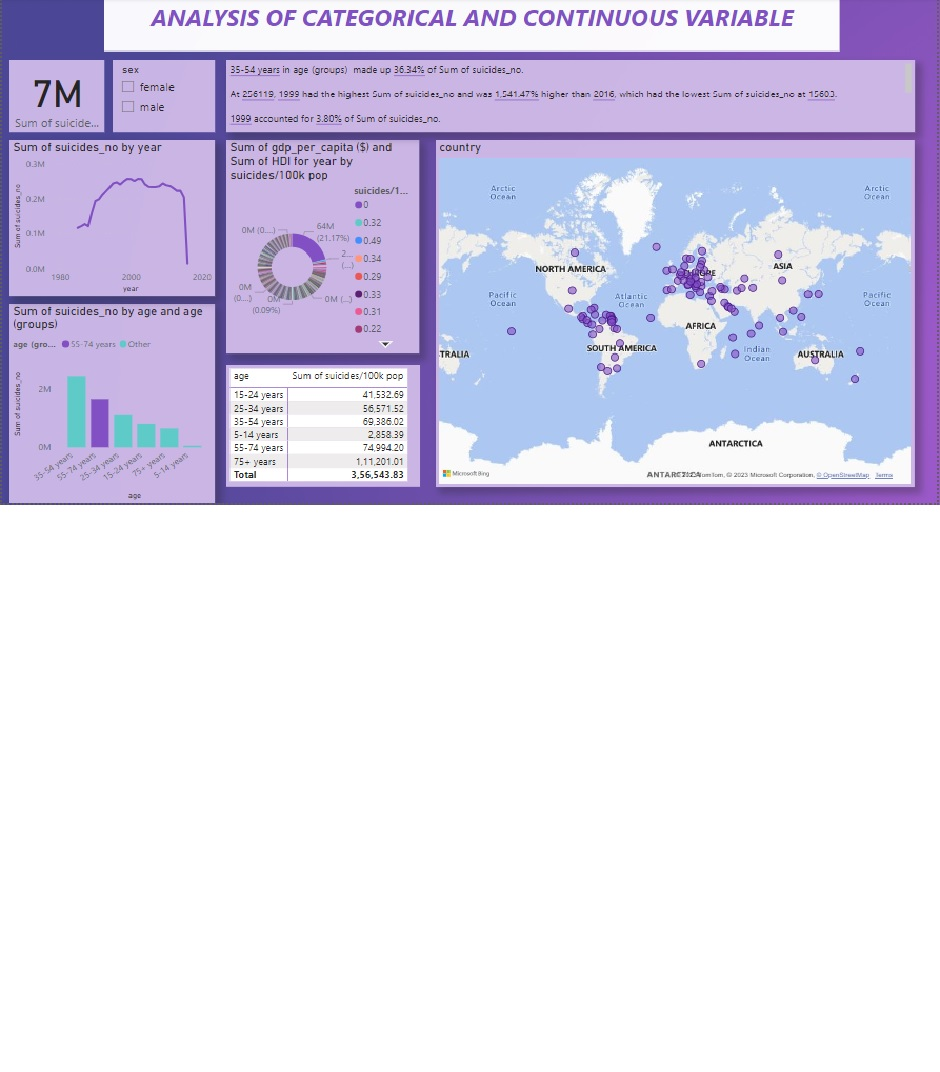

The dashboard page shown, as its layout file describes it:
{"tool":"powerbi","page":{"name":"Page 1","canvas":[1280,720],"ordinal":0},"visuals":[{"type":"lineStackedColumnComboChart","fields":{"Category":["suicide rate-visualization.age"],"Y":["Sum(suicide rate-visualization.suicides_no)"],"Series":["suicide rate-visualization.age (groups)"]},"box":[10.1,436.3,280.8,283.7],"z":0},{"type":"textbox","box":[139.4,0,1006.2,75.6],"z":1000},{"type":"lineChart","fields":{"Category":["suicide rate-visualization.year"],"Y":["Sum(suicide rate-visualization.suicides_no)"]},"box":[10.1,203,280.8,221.8],"z":2000},{"type":"slicer","fields":{"Values":["suicide rate-visualization.sex"]},"box":[151.2,87.8,139.7,103.7],"z":3000},{"type":"card","fields":{"Values":["Sum(suicide rate-visualization.suicides_no)"]},"box":[10.1,87.8,129.6,103.7],"z":4000},{"type":"donutChart","fields":{"Category":["suicide rate-visualization.suicides/100k pop"],"Y":["Sum(suicide rate-visualization.gdp_per_capita ($))","Sum(suicide rate-visualization.HDI for year)"]},"box":[306.7,203,263.5,303.8],"z":4001},{"type":"textbox","box":[306.7,87.8,941.8,103.7],"z":4002},{"type":"pivotTable","fields":{"Rows":["suicide rate-visualization.age"],"Values":["Sum(suicide rate-visualization.suicides/100k pop)"]},"box":[306.7,522.7,265,174.2],"z":4004},{"type":"map","fields":{"Category":["suicide rate-visualization.country"]},"box":[593.3,203,655.2,493.9],"z":4005}]}

Visuals, with their boxes in screenshot pixels (x1, y1, x2, y2):
lineStackedColumnComboChart - suicide rate-visualization.age x Sum(suicide rate-visualization.suicides_no): rect(10, 311, 214, 516)
textbox: rect(104, 0, 833, 49)
lineChart - suicide rate-visualization.year x Sum(suicide rate-visualization.suicides_no): rect(10, 142, 214, 302)
slicer - suicide rate-visualization.sex: rect(112, 58, 214, 133)
card - Sum(suicide rate-visualization.suicides_no): rect(10, 58, 104, 133)
donutChart - suicide rate-visualization.suicides/100k pop x Sum(suicide rate-visualization.gdp_per_capita ($)): rect(225, 142, 416, 362)
textbox: rect(225, 58, 908, 133)
pivotTable - suicide rate-visualization.age x Sum(suicide rate-visualization.suicides/100k pop): rect(225, 373, 417, 500)
map - suicide rate-visualization.country: rect(433, 142, 908, 500)
